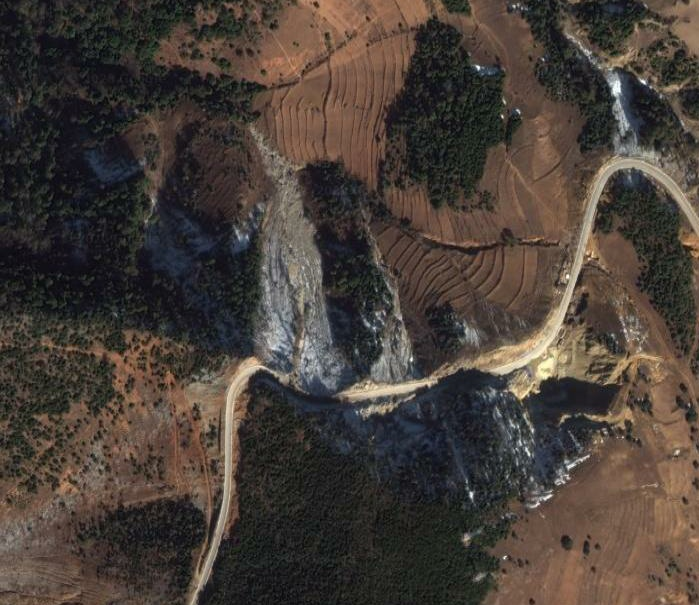slope: (230, 125, 422, 417), (563, 28, 674, 164), (504, 315, 665, 405), (458, 306, 560, 370)
